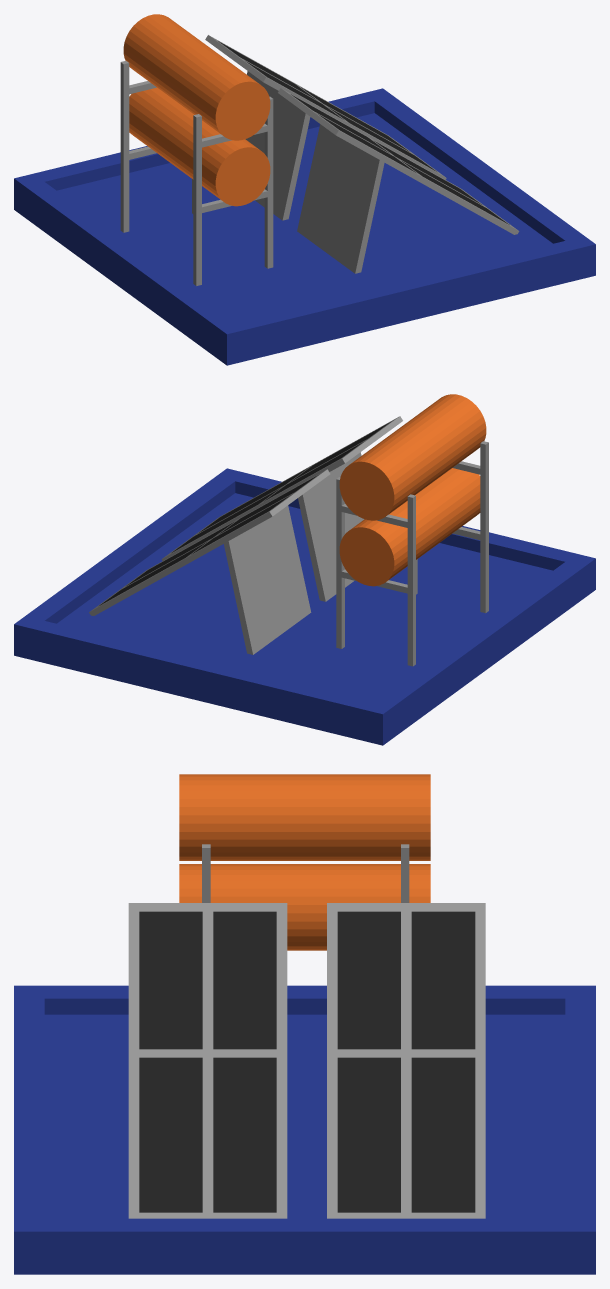
File: roof3.fbx
3 views of the same model, one above another, from view 1: azimuth 30°, elevation 25°; view 2: azimuth 150°, elevation 25°; view 3: azimuth 270°, elevation 25° (orthographic). The views are drawn at different scales.
Parts seen in each view (by area): view 1: Cube, Cube.001, Cylinder.001, Cylinder, Cube.002; view 2: Cube, Cube.001, Cylinder.001, Cylinder, Cube.002; view 3: Cube.001, Cube, Cylinder.001, Cylinder, Cube.002.
Boxes of the visible parts, x1,y1,x2,y2 form: Cube: [14, 88, 595, 365]; Cube.001: [205, 35, 519, 273]; Cylinder.001: [123, 14, 270, 140]; Cylinder: [129, 87, 270, 206]; Cube.002: [120, 61, 273, 285]; Cube: [14, 468, 595, 745]; Cube.001: [89, 416, 402, 654]; Cylinder.001: [339, 394, 486, 520]; Cylinder: [339, 468, 480, 586]; Cube.002: [336, 441, 488, 666]; Cube.001: [128, 903, 485, 1218]; Cube: [14, 985, 595, 1274]; Cylinder.001: [179, 774, 430, 860]; Cylinder: [179, 864, 430, 950]; Cube.002: [202, 844, 409, 902].
Bounding box in the file's own units: 200 × 114 × 200.
